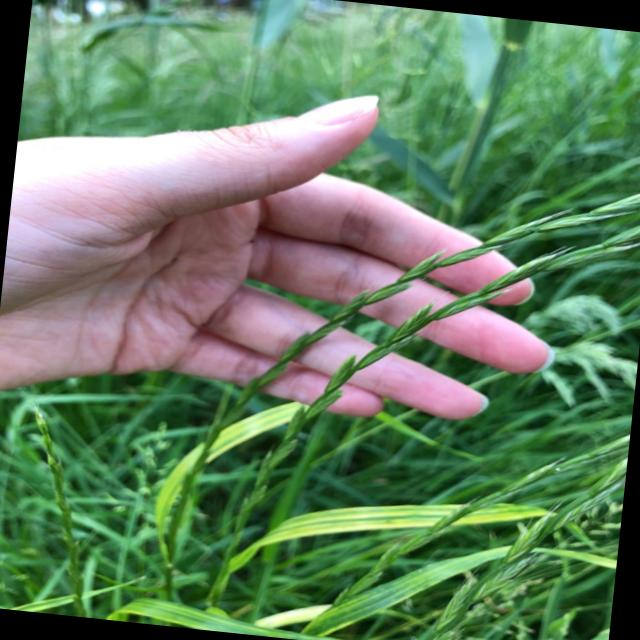Lolium: (177, 144, 640, 542), (226, 186, 640, 571), (10, 406, 120, 602)
